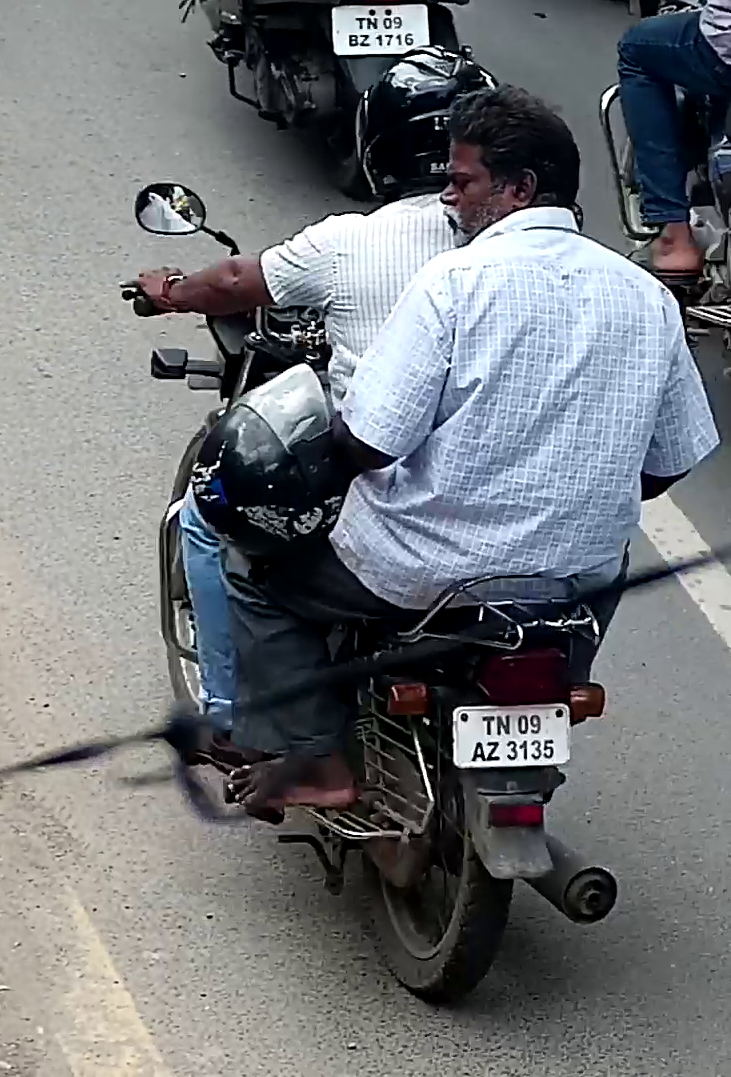0: (517, 715, 529, 735)
1: (518, 739, 529, 760)
3: (506, 740, 518, 760), (530, 740, 542, 759)
5: (543, 738, 555, 759)
9: (530, 714, 541, 734)
A: (471, 742, 486, 762)
N: (496, 715, 511, 736)
P16: (450, 705, 572, 768)
T: (482, 715, 495, 735)
Z: (486, 741, 500, 761)
